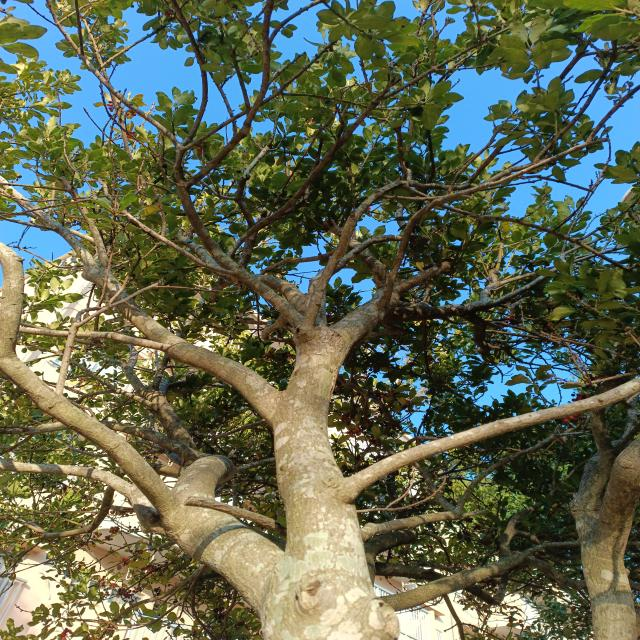Branch: (0, 240, 175, 515), (347, 377, 640, 497), (81, 262, 276, 423), (177, 166, 317, 333), (1, 460, 131, 500), (383, 281, 500, 323)
Twig: (227, 26, 510, 257), (379, 84, 640, 307), (306, 151, 497, 318), (175, 42, 336, 168), (47, 0, 182, 146), (188, 1, 273, 187), (493, 193, 604, 306), (55, 283, 155, 399), (0, 175, 100, 276), (122, 211, 239, 277), (170, 0, 209, 145), (59, 176, 115, 269), (18, 326, 167, 350), (96, 24, 166, 70), (334, 235, 403, 275), (269, 0, 326, 43), (501, 266, 557, 286), (494, 243, 503, 276)
